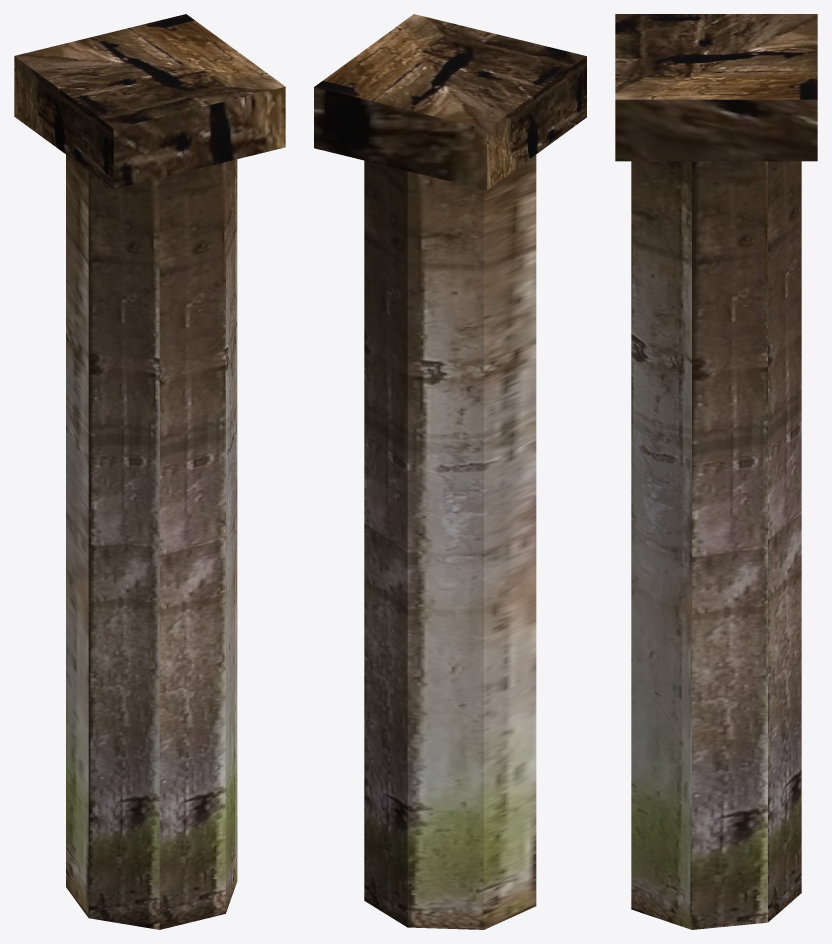
The model's file is Columna Alberro.fbx.
3 views of the same model, side by side, from view 1: azimuth 30°, elevation 25°; view 2: azimuth 150°, elevation 25°; view 3: azimuth 270°, elevation 25° (orthographic).
Visible parts, largest first — view 1: Columna; view 2: Columna; view 3: Columna.
Part boxes in pixels (left/top/right/bottom): Columna: left=14, top=14, right=285, bottom=929; Columna: left=314, top=14, right=586, bottom=929; Columna: left=615, top=14, right=817, bottom=929.
Bounding box in the file's own units: 109 × 496 × 109.
